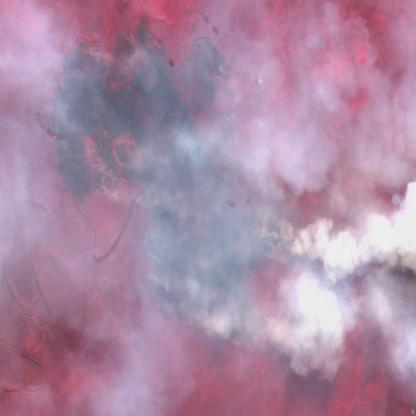fire: (47, 27, 281, 349)
